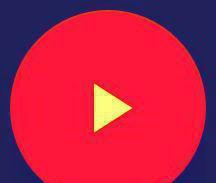ImgButton: (1, 1, 215, 182)
